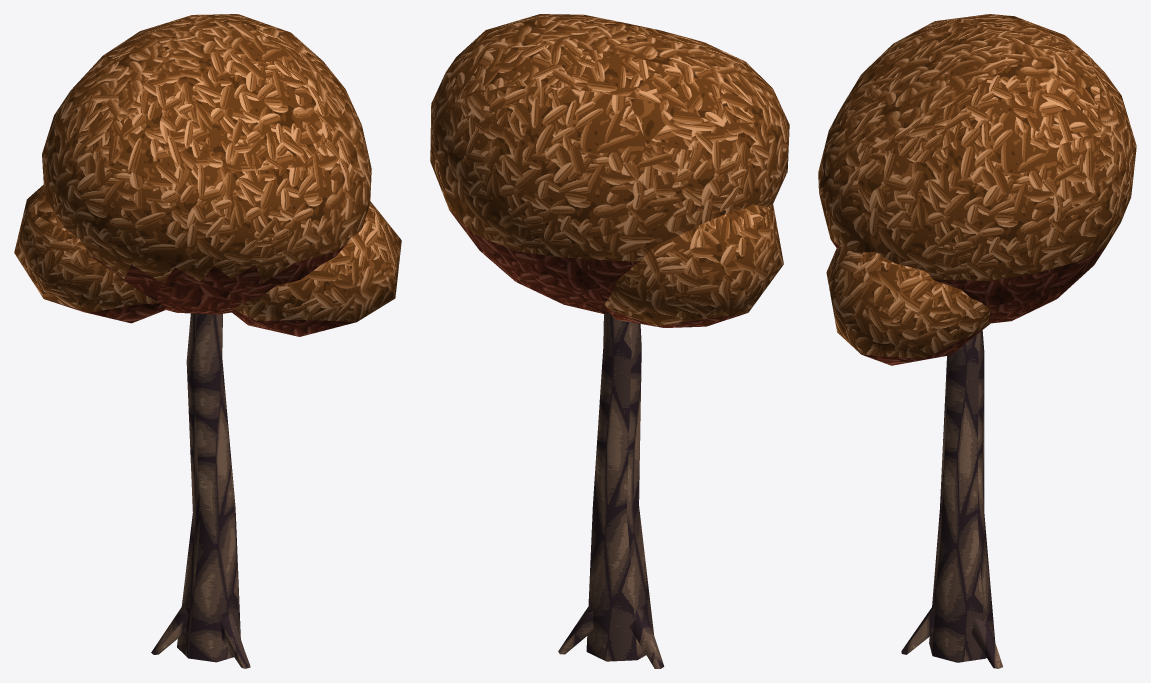
Rendered from tree_small.glb.
3 renders of one model, left to right at view 1: azimuth 30°, elevation 25°; view 2: azimuth 150°, elevation 25°; view 3: azimuth 270°, elevation 25°, orthographic. The views are drawn at different scales.
Visible parts, largest first — view 1: Tree; view 2: Tree; view 3: Tree.
Part boxes in pixels (left/top/right/bottom): Tree: left=14, top=14, right=401, bottom=668; Tree: left=430, top=14, right=789, bottom=668; Tree: left=818, top=14, right=1136, bottom=668.
Bounding box in the file's own units: 1.96 × 3.55 × 1.67.
Materials: 3 (3 with a texture image).
